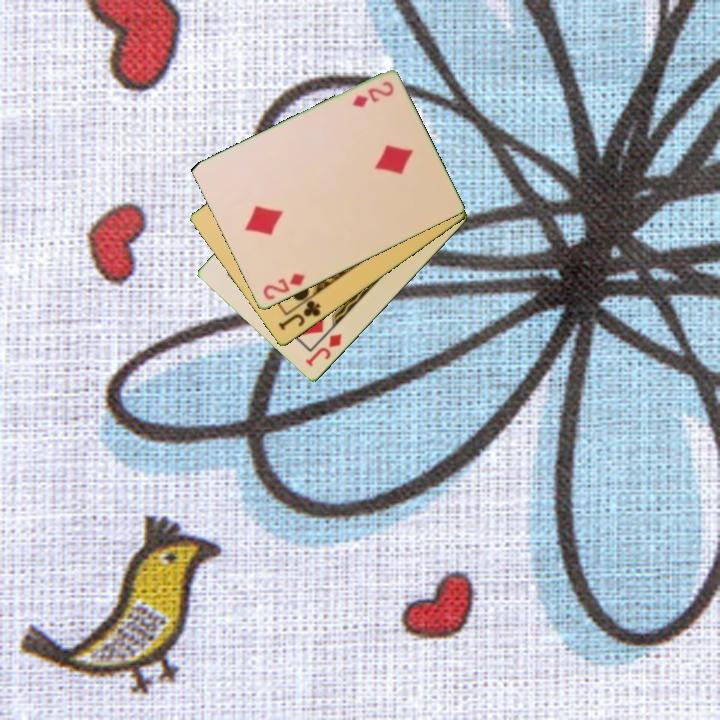2d: (259, 270, 308, 303), (348, 78, 397, 111)
Jc: (275, 297, 324, 334)
Jd: (302, 330, 345, 370)
